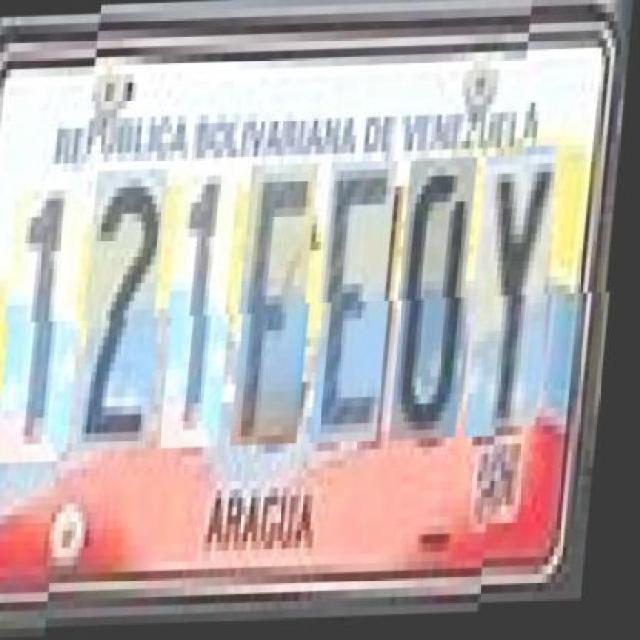0: (398, 161, 485, 444)
1: (5, 172, 97, 456), (168, 168, 248, 450)
2: (85, 170, 177, 452)
e: (319, 163, 406, 446)
f: (239, 165, 327, 448)
y: (473, 157, 565, 440)
